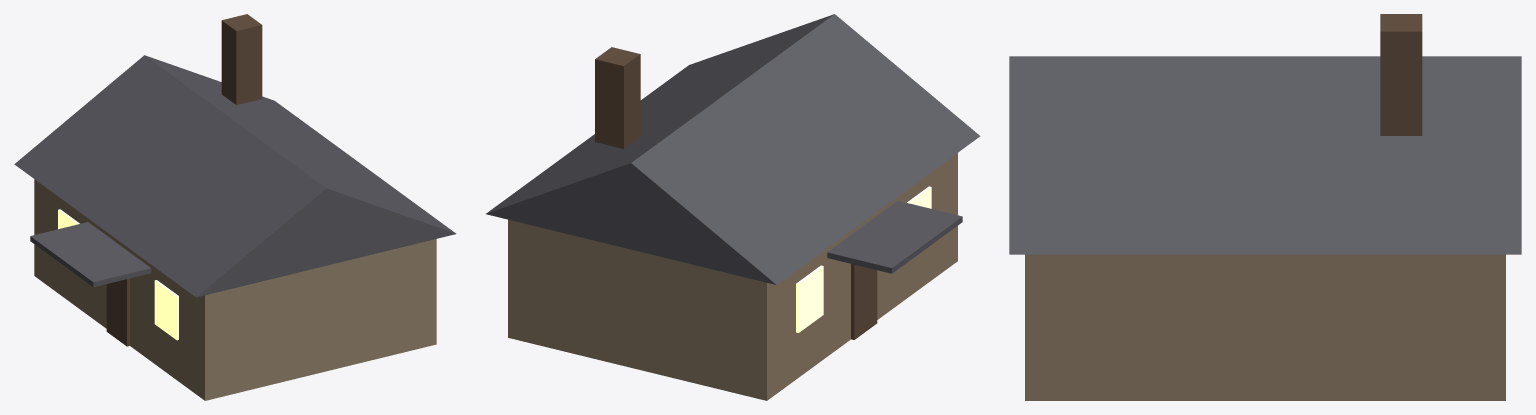
The model's file is house.glb.
3 renders of one model, left to right at view 1: azimuth 30°, elevation 25°; view 2: azimuth 150°, elevation 25°; view 3: azimuth 270°, elevation 25°, orthographic. The views are drawn at different scales.
Parts seen in each view (by area): view 1: house; view 2: house; view 3: house.
Part boxes in pixels (x1,y1,x2,y2): house: [14, 14, 456, 400]; house: [486, 14, 980, 400]; house: [1009, 14, 1521, 400].
Size of the model in its own units: 9.45 by 7.1 by 9.8.
